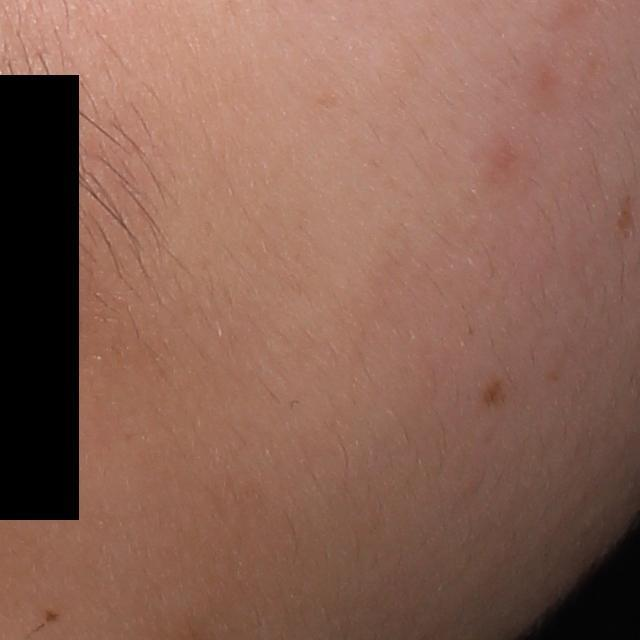nevus: (477, 377, 510, 411), (42, 608, 65, 628)
